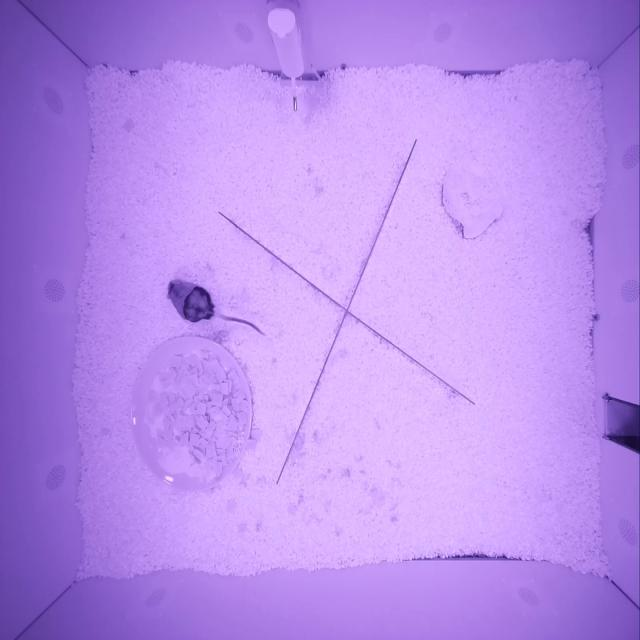adult_back: (166, 279, 219, 324)
